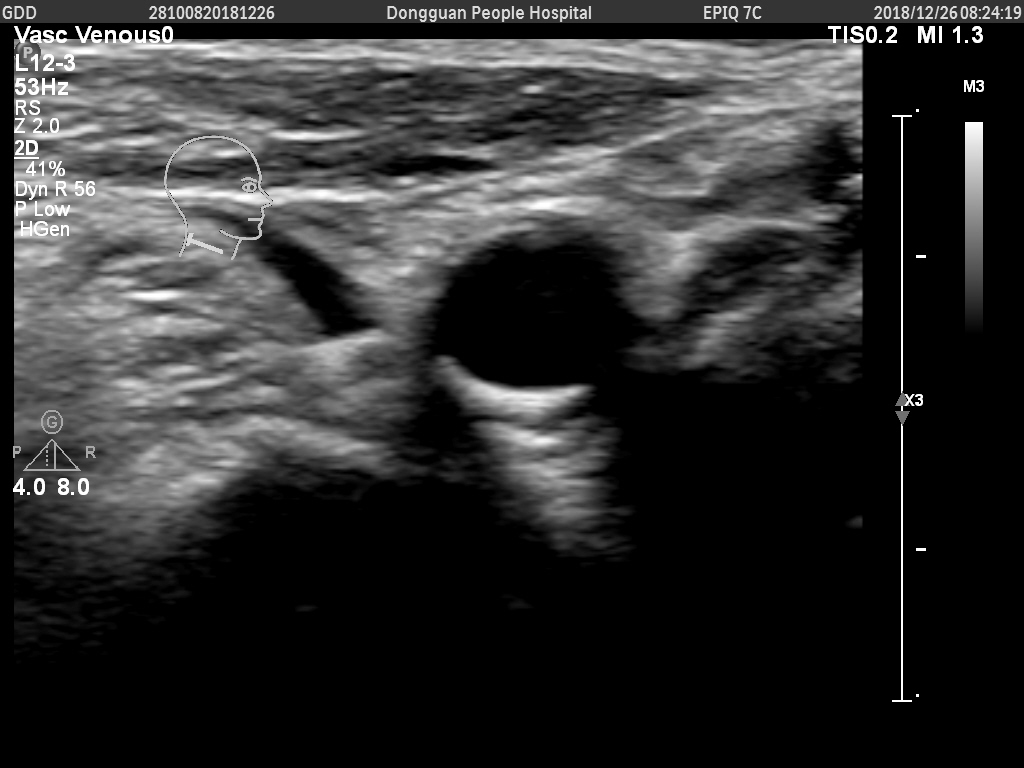plaque: (420, 349, 625, 468)
vessel: (392, 201, 696, 480)
